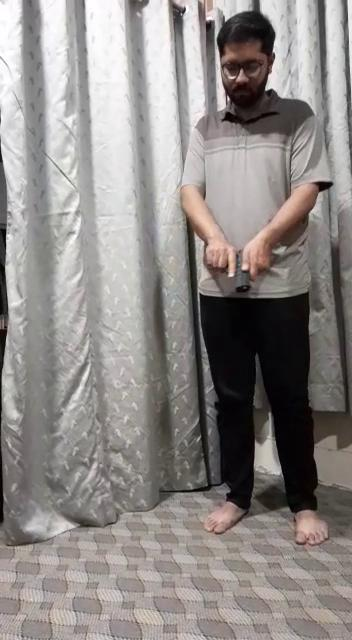criminal: (177, 7, 337, 549)
weapon: (225, 245, 255, 297)
